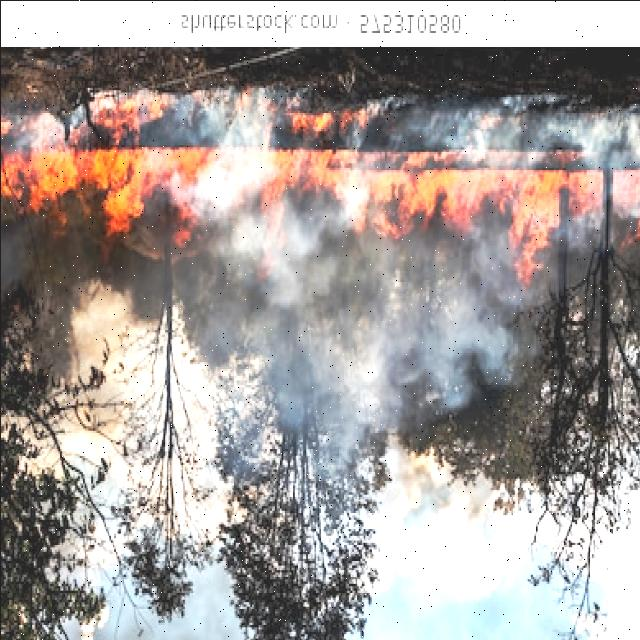api: (4, 155, 640, 269), (92, 86, 164, 143), (297, 103, 367, 135)
asap: (303, 279, 515, 416), (395, 103, 640, 147), (180, 86, 274, 138), (20, 110, 68, 140)
